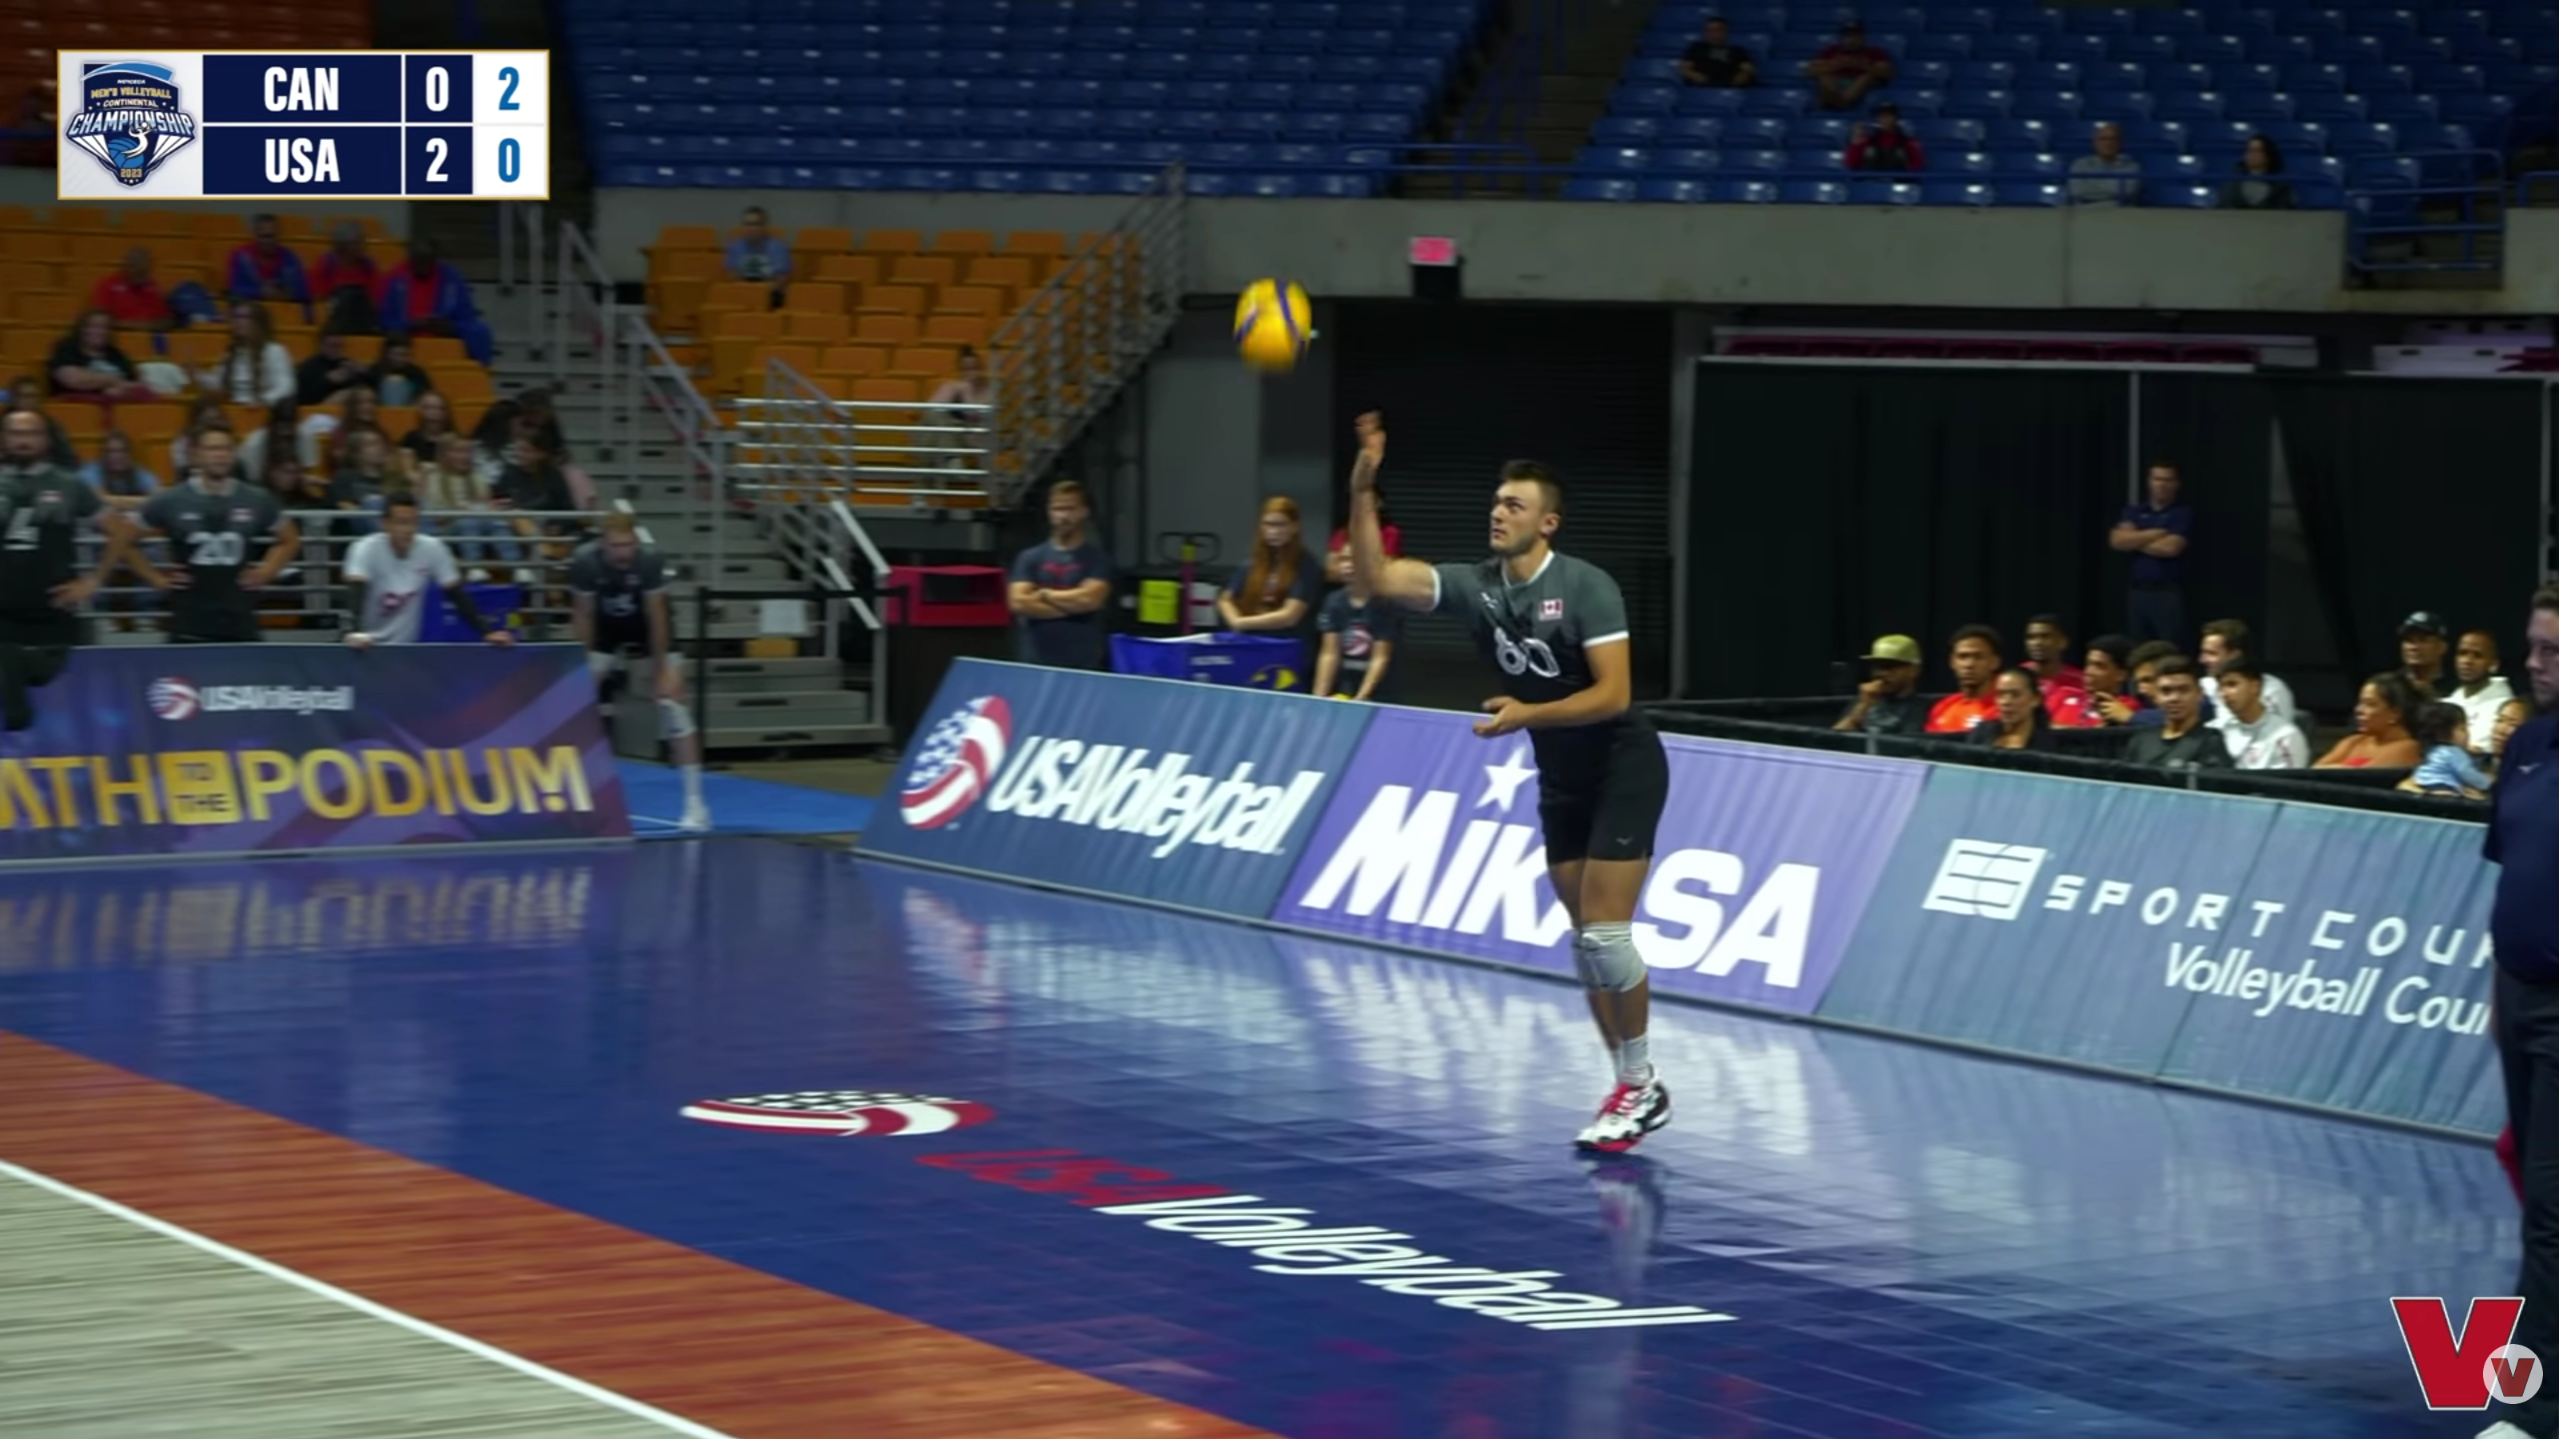Ball: (1227, 274, 1318, 380)
